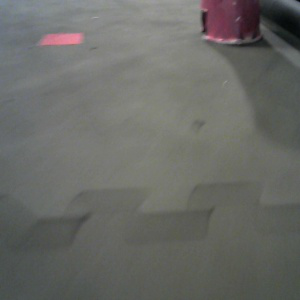Right: (198, 1, 264, 44)
